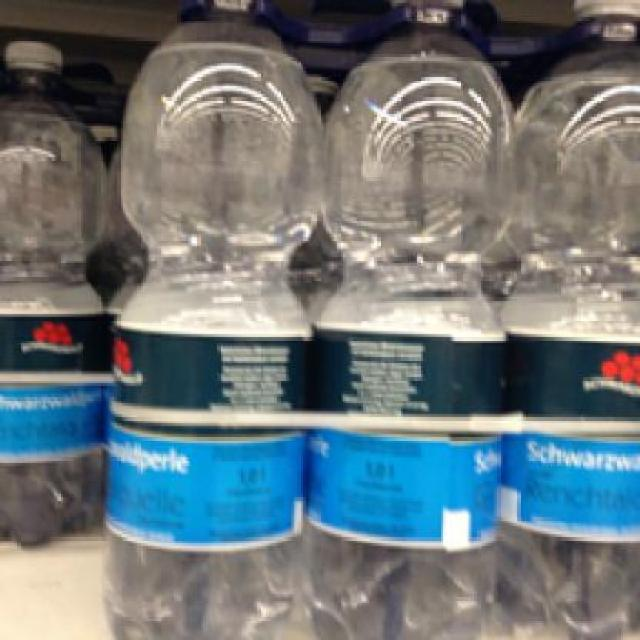Water: (106, 0, 320, 637), (305, 0, 518, 637), (513, 0, 635, 632), (0, 33, 112, 549)
